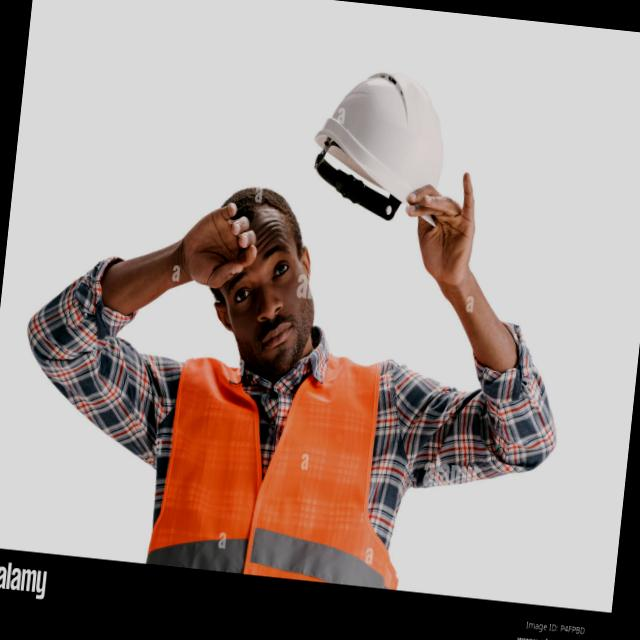no-goggles: (208, 235, 309, 330)
no-helmet: (194, 145, 296, 225)
vest: (135, 338, 417, 612)
